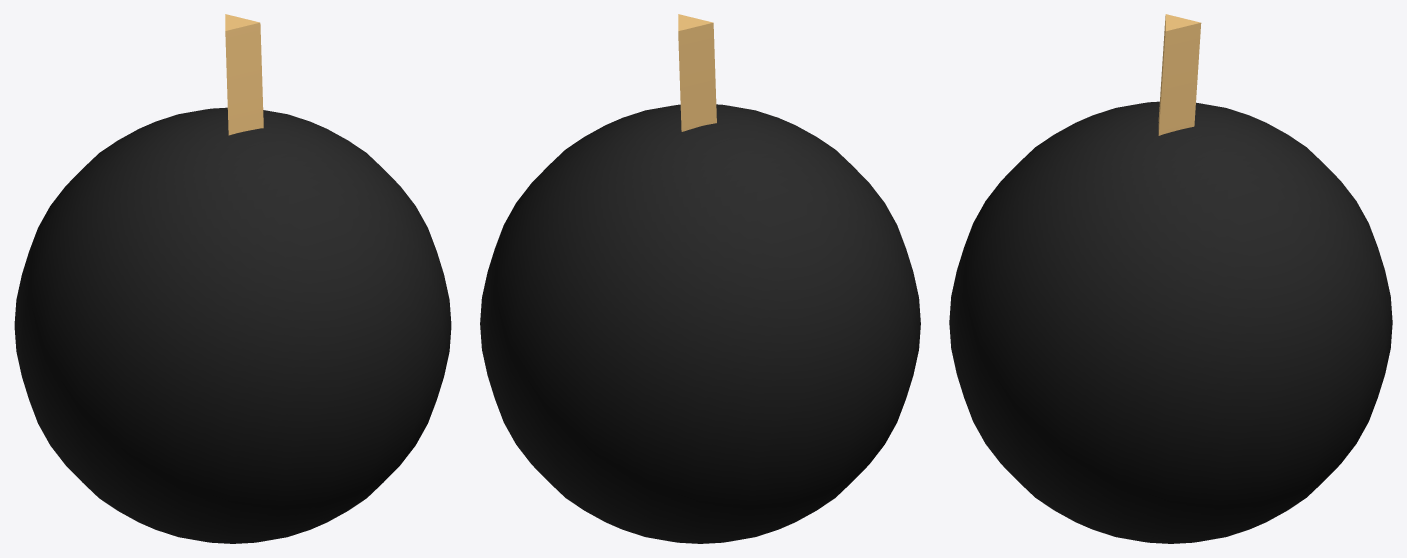
Rendered from bola de canhao (1).fbx.
3 renders of one model, left to right at view 1: azimuth 30°, elevation 25°; view 2: azimuth 150°, elevation 25°; view 3: azimuth 270°, elevation 25°, orthographic.
Visible parts, largest first — view 1: Sphere, Cylinder.002; view 2: Sphere, Cylinder.002; view 3: Sphere, Cylinder.002.
Part boxes in pixels (bbox=[...]): Sphere: bbox=[14, 107, 451, 543]; Cylinder.002: bbox=[225, 14, 263, 135]; Sphere: bbox=[480, 104, 920, 543]; Cylinder.002: bbox=[678, 14, 716, 131]; Sphere: bbox=[949, 101, 1392, 543]; Cylinder.002: bbox=[1158, 14, 1201, 135].
Bounding box in the file's own units: 200 × 251 × 200.
2 materials, 2 textured.
